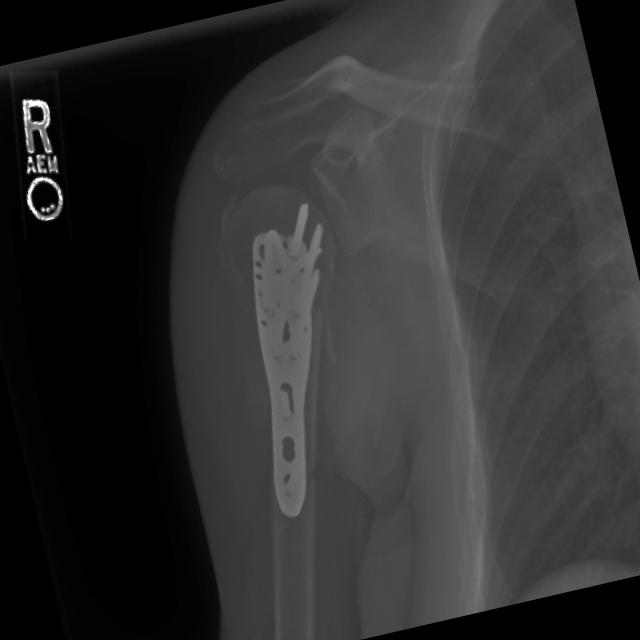shoulder fracture: (280, 33, 391, 135)
